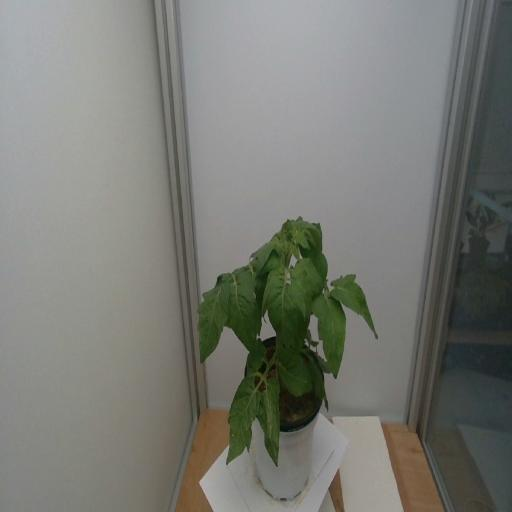Tomato-Leaves-Cupboard-: (216, 264, 259, 358), (330, 270, 381, 342), (268, 276, 309, 358), (222, 376, 258, 468), (194, 277, 229, 365), (316, 294, 347, 383), (257, 381, 284, 466), (278, 347, 315, 399), (291, 256, 320, 304), (260, 265, 284, 322), (311, 371, 333, 415), (244, 333, 266, 376), (298, 223, 325, 256), (310, 244, 332, 284), (247, 239, 288, 260), (260, 249, 286, 280), (313, 351, 336, 377), (293, 219, 324, 236), (293, 229, 308, 253), (304, 326, 319, 348), (279, 219, 292, 231)
